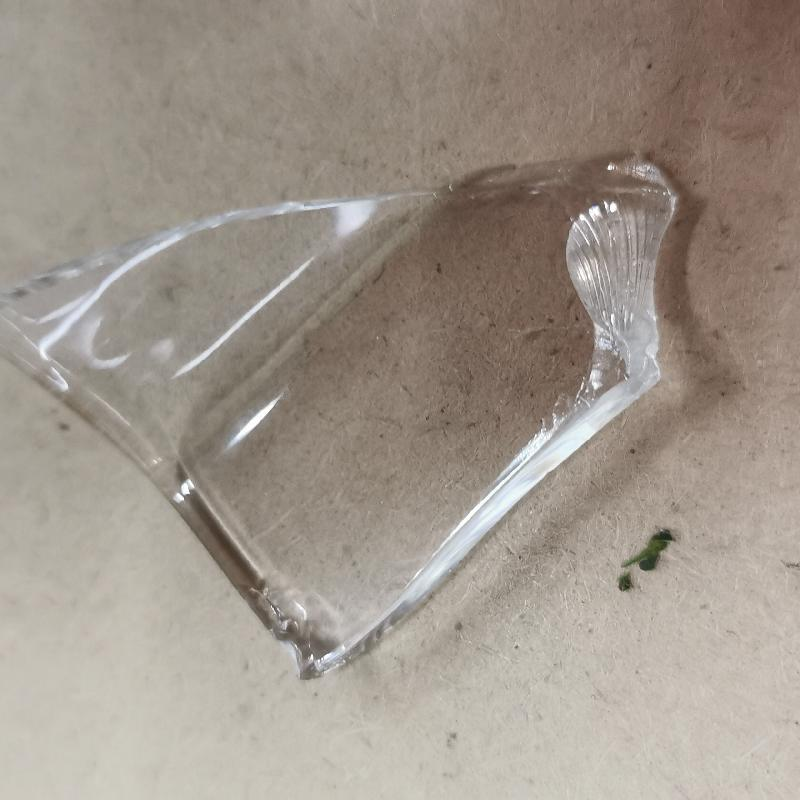glass: (24, 147, 674, 672)
